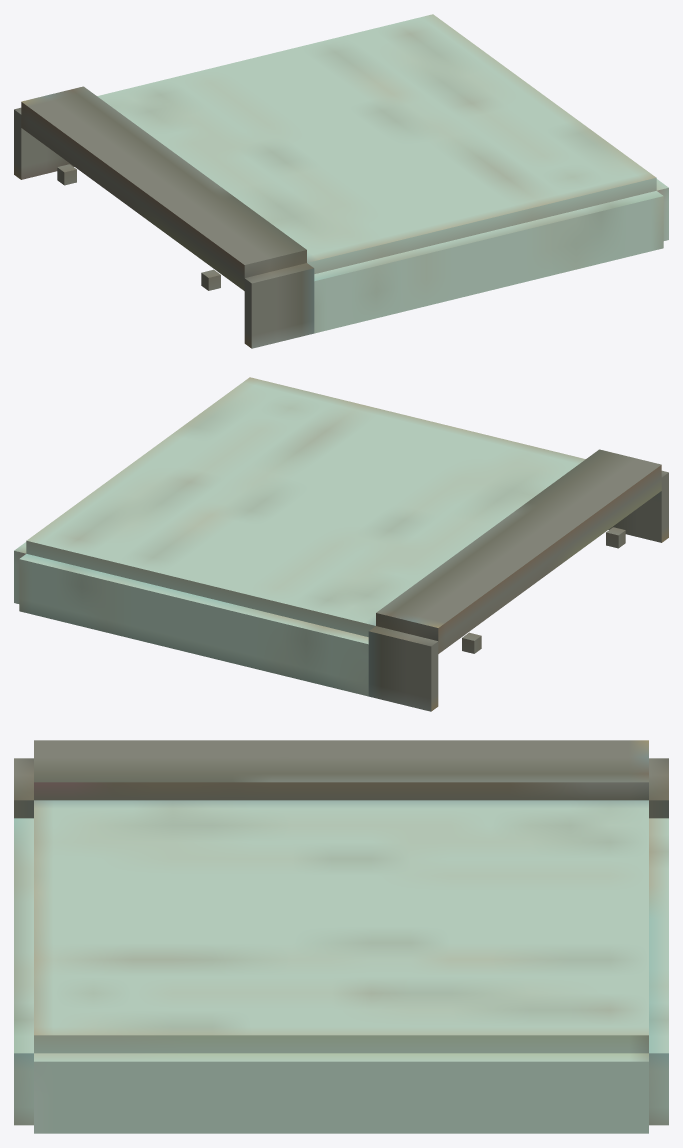
The model's file is BlanketWhite_00.obj.
3 views of the same model, one above another, from view 1: azimuth 30°, elevation 25°; view 2: azimuth 150°, elevation 25°; view 3: azimuth 270°, elevation 25° (orthographic). The views are drawn at different scales.
Visible parts, largest first — view 1: BlanketWhite_00; view 2: BlanketWhite_00; view 3: BlanketWhite_00.
Boxes of the visible parts, left/top/right/bottom form: BlanketWhite_00: left=14, top=14, right=668, bottom=348; BlanketWhite_00: left=14, top=377, right=668, bottom=711; BlanketWhite_00: left=14, top=740, right=668, bottom=1133.
Size of the model in its own units: 1.7 by 0.3 by 1.65.
